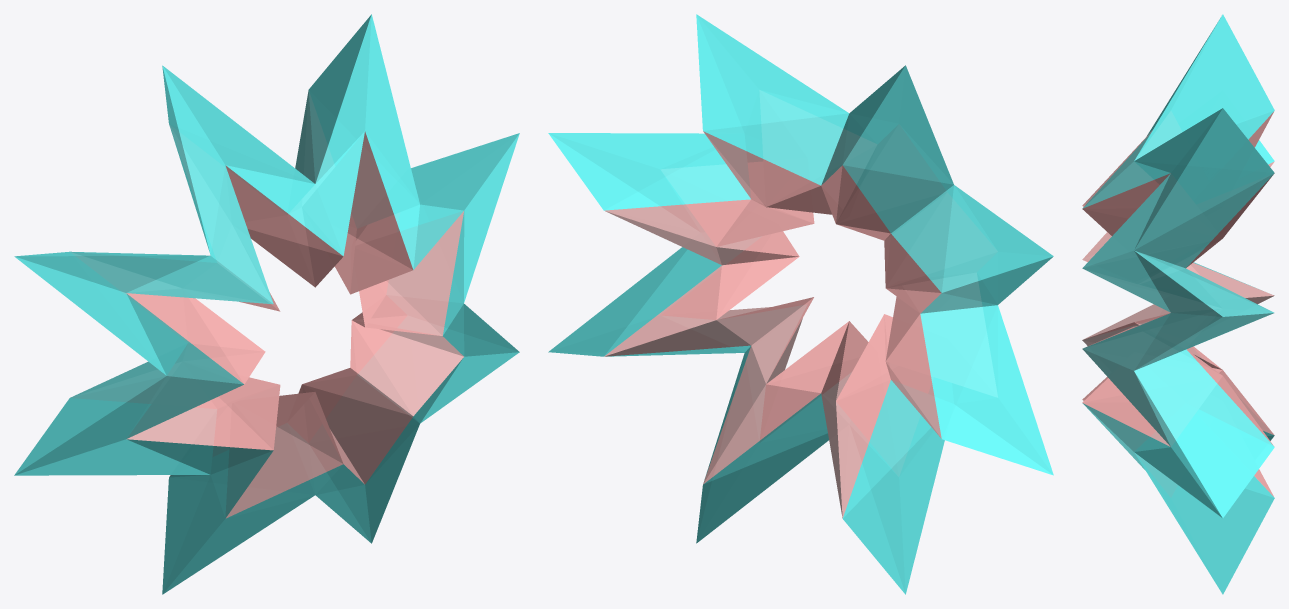
The model's file is Regular8TetragonalStarToroid1.obj.
The picture shows the model from 3 angles, left to right: view 1: azimuth 30°, elevation 25°; view 2: azimuth 150°, elevation 25°; view 3: azimuth 270°, elevation 25°; orthographic projection. The views are drawn at different scales.
Bounding box in the file's own units: 3.62 × 3.62 × 1.3.
